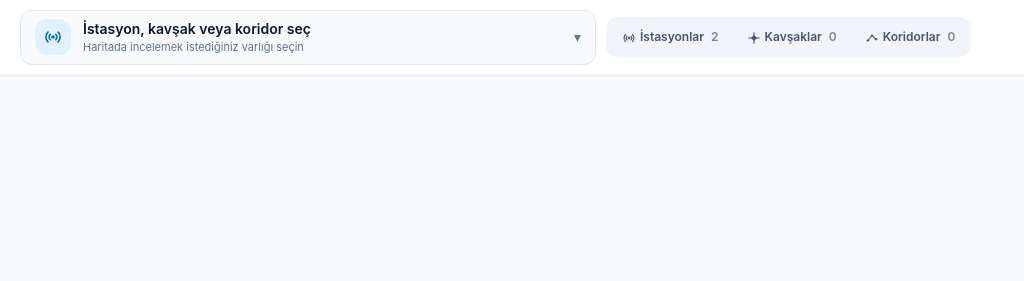
Test case: AssetSelectionBar › shows real history availability instead of live freshness in analysis mode
Click the button "İstasyon, kavşak veya koridor seç" at (308, 37), box x1=20 y1=10 x2=596 y2=64
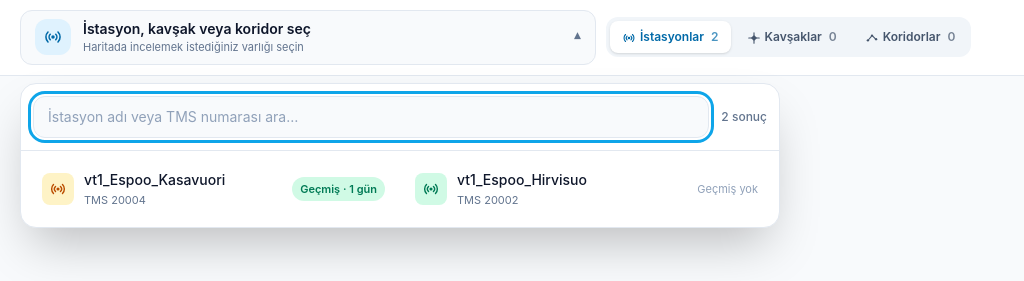
Expected: the text "Geçmiş · 1 gün" is shown, x1=292 y1=176 x2=385 y2=201
Expected: the text "Geçmiş yok" is shown, x1=697 y1=180 x2=758 y2=197
